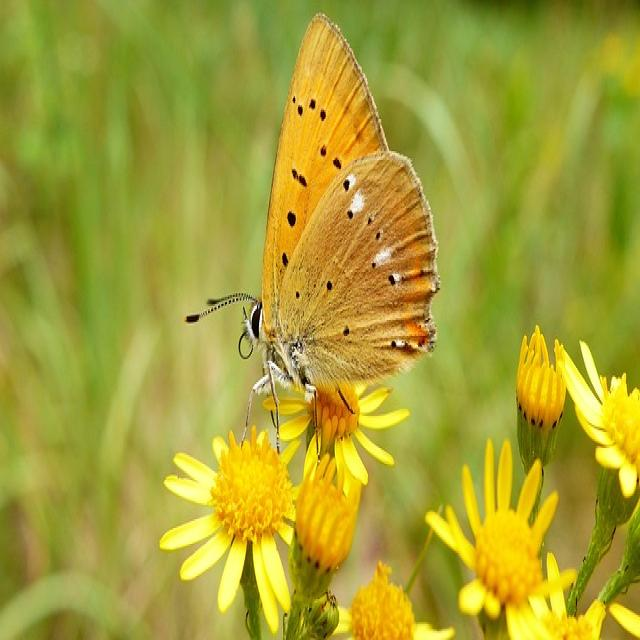butterfly: (186, 16, 439, 430)
